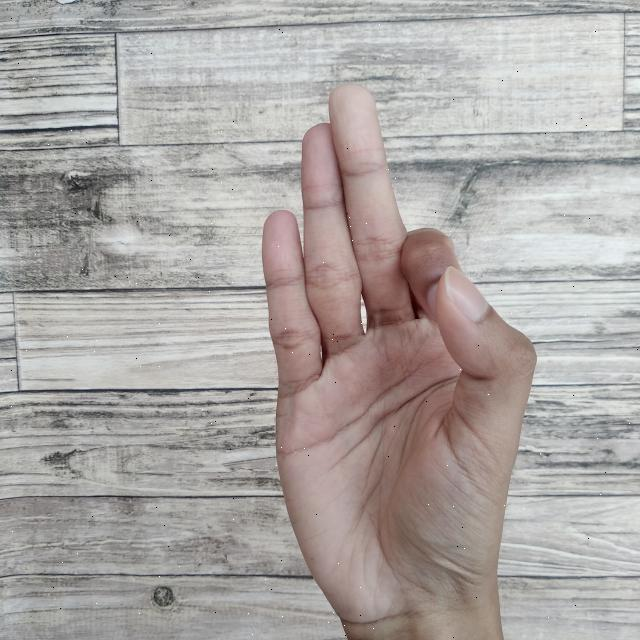F: (261, 82, 541, 640)
